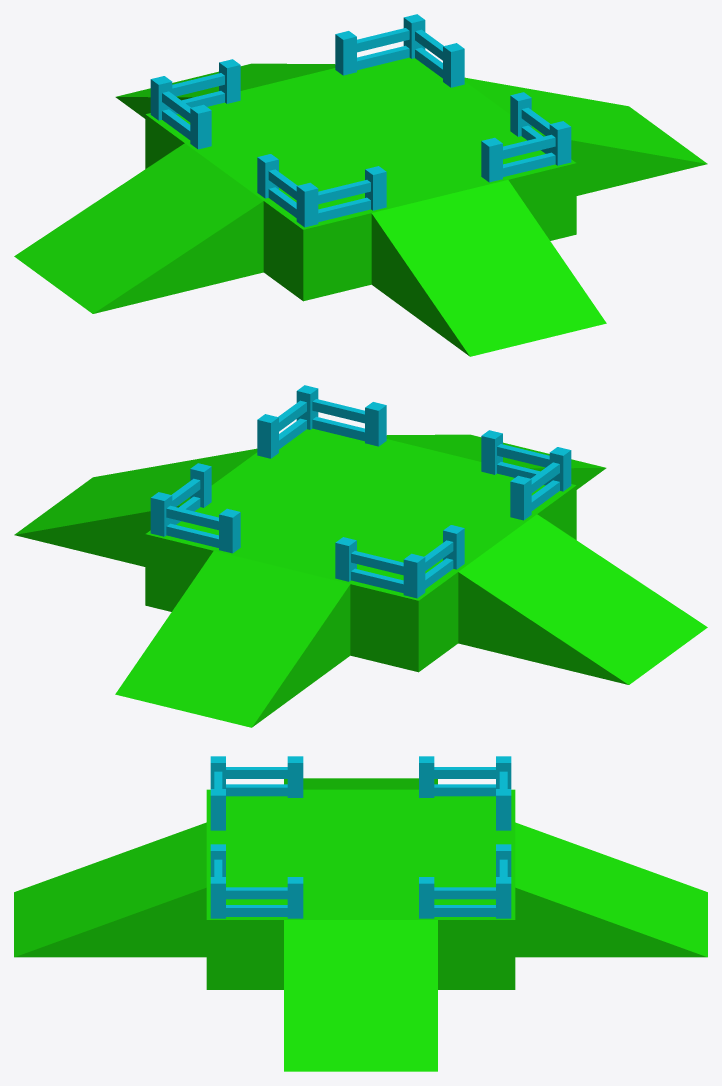
The model's file is Ramp.fbx.
The picture shows the model from 3 angles, top to bottom: view 1: azimuth 30°, elevation 25°; view 2: azimuth 150°, elevation 25°; view 3: azimuth 270°, elevation 25°; orthographic projection. The views are drawn at different scales.
Visible parts, largest first — view 1: Cube.004; view 2: Cube.004; view 3: Cube.004.
Part boxes in pixels (box(x1,y1,x2,y2)): Cube.004: box(14, 14, 707, 356); Cube.004: box(14, 385, 707, 727); Cube.004: box(14, 756, 707, 1071).
Size of the model in its own units: 900 by 150 by 900.
